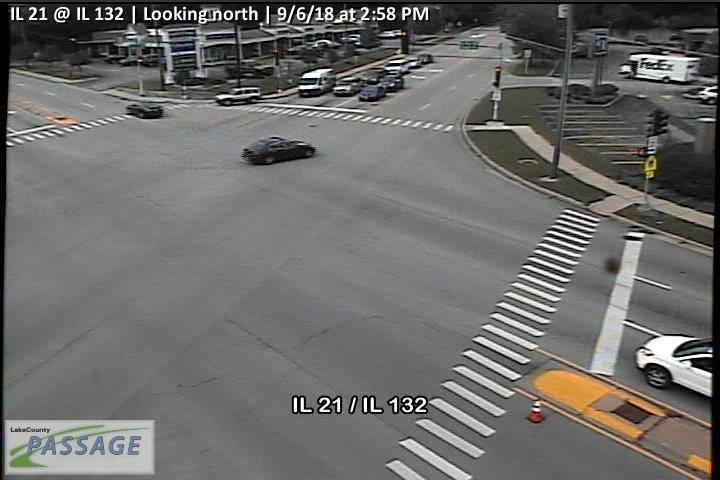SUV: (295, 68, 336, 98), (213, 86, 261, 106), (334, 76, 363, 96), (380, 74, 405, 92), (385, 57, 410, 75)
Sedan: (636, 334, 713, 397), (241, 136, 316, 165), (225, 59, 275, 78), (125, 101, 163, 118), (358, 84, 386, 101), (363, 66, 388, 83), (409, 57, 422, 68), (419, 53, 432, 63)
Truck: (618, 53, 701, 83)
